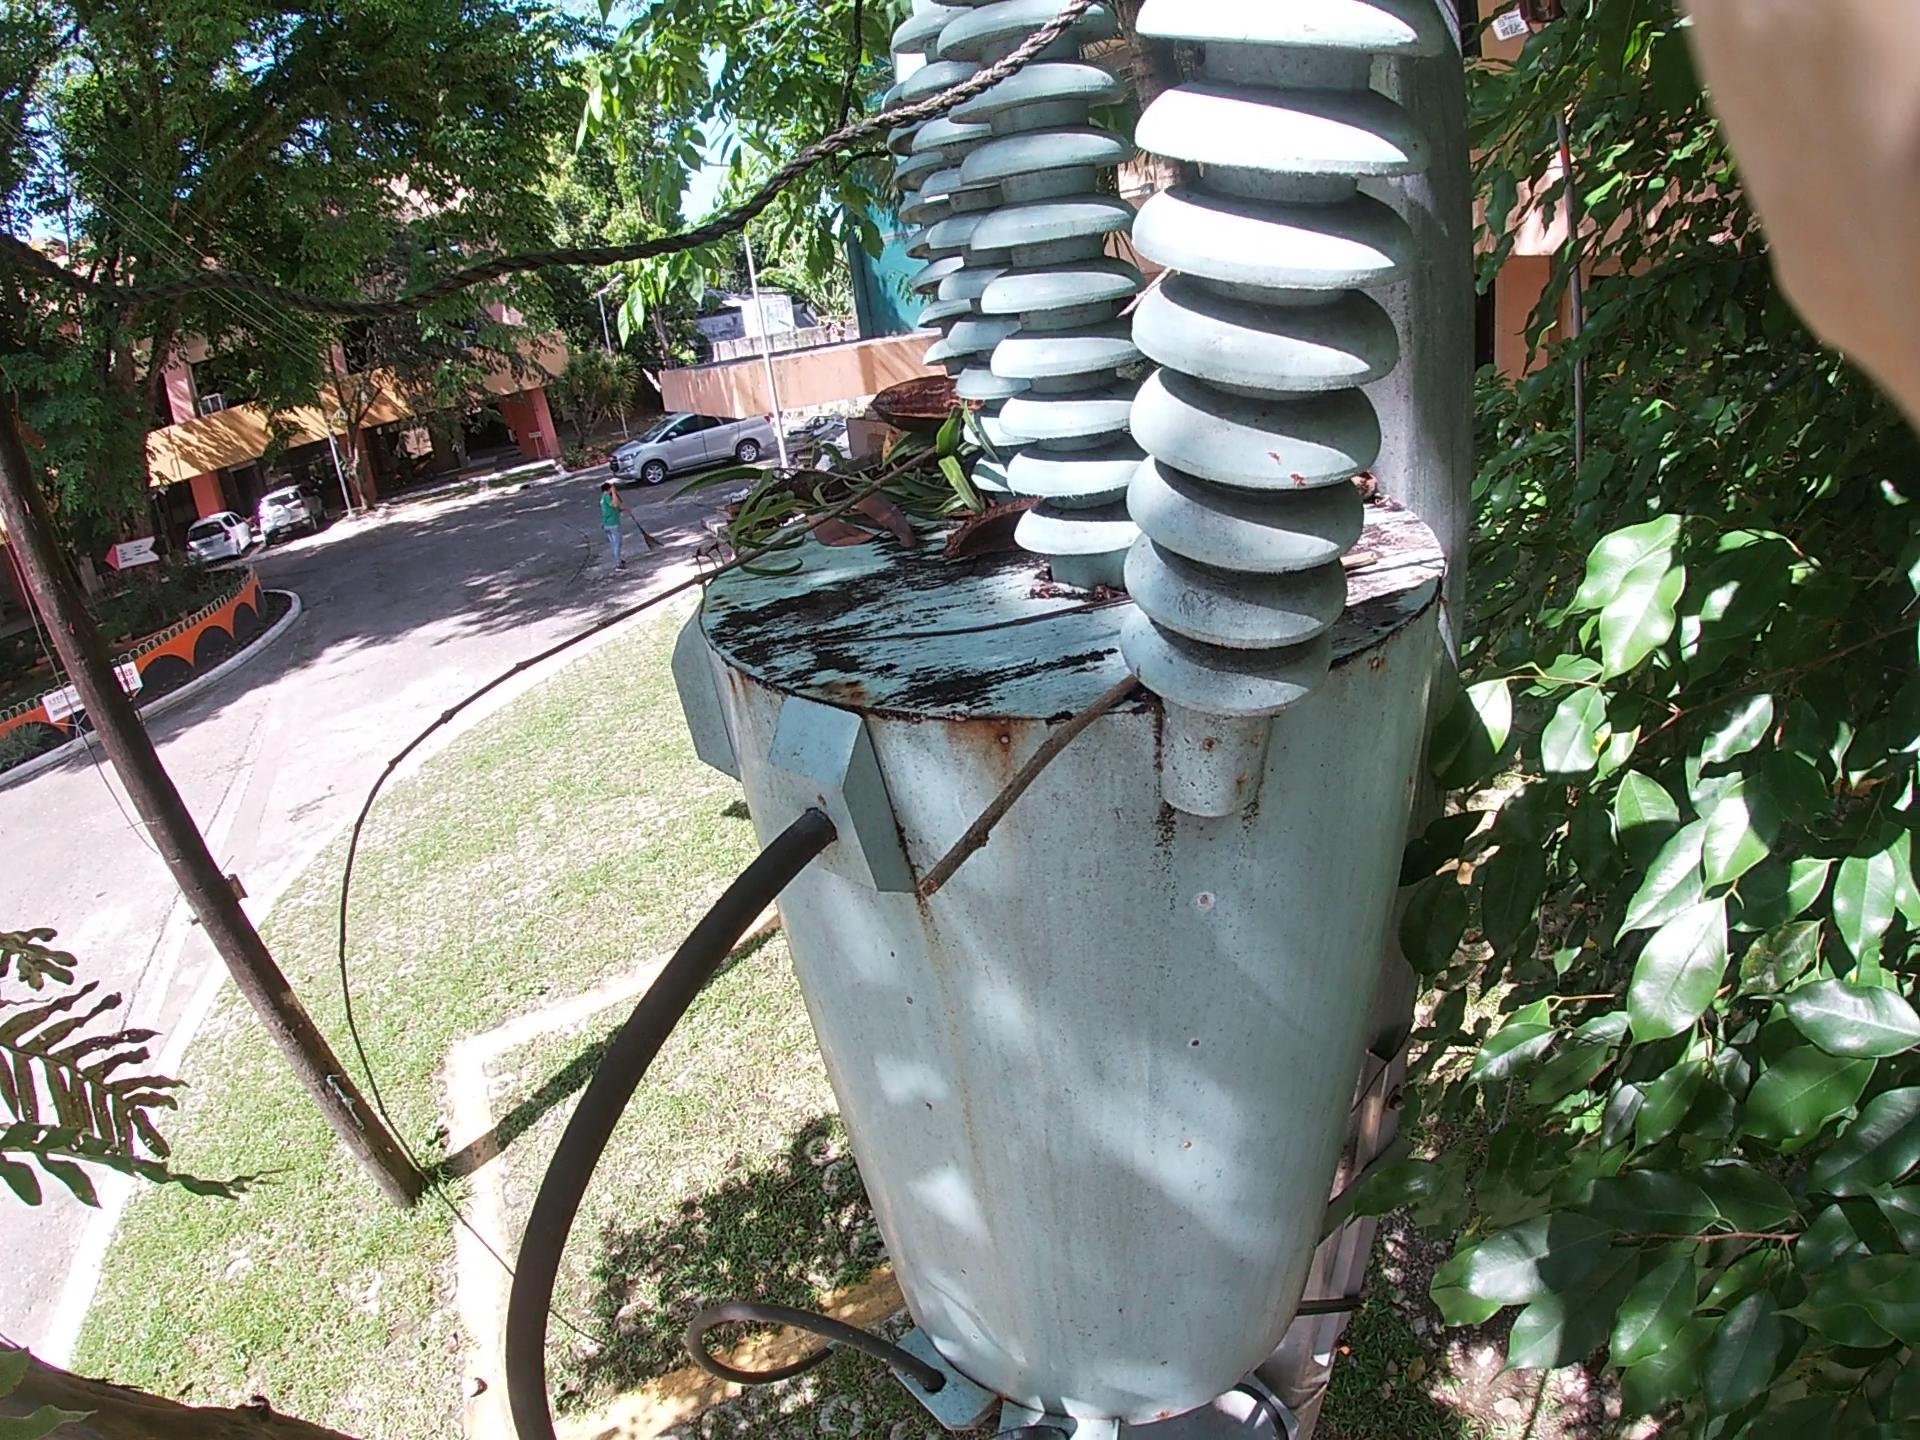branch with leaves: (723, 342, 1019, 545)
leaf: (807, 460, 887, 631)
mahogany fruit: (828, 331, 1011, 510), (857, 460, 1048, 563)
tree branch: (88, 445, 952, 977), (983, 498, 1231, 917)
